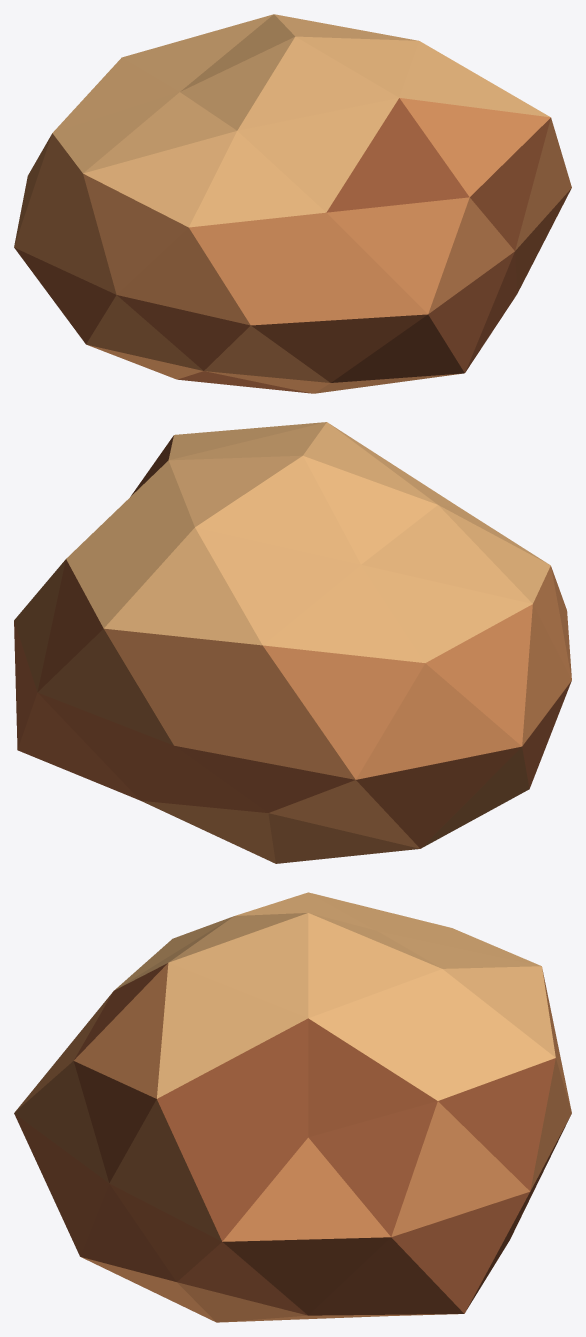
The model's file is boulder_a.glb.
The picture shows the model from 3 angles, top to bottom: view 1: azimuth 30°, elevation 25°; view 2: azimuth 150°, elevation 25°; view 3: azimuth 270°, elevation 25°; orthographic projection. The views are drawn at different scales.
Parts seen in each view (by area): view 1: boulder_a; view 2: boulder_a; view 3: boulder_a.
Boxes of the visible parts, <box> form: boulder_a: <box>14,14,571,393</box>; boulder_a: <box>14,422,571,863</box>; boulder_a: <box>14,892,571,1322</box>.
Bounding box in the file's own units: 1.69 × 1.06 × 1.54.
